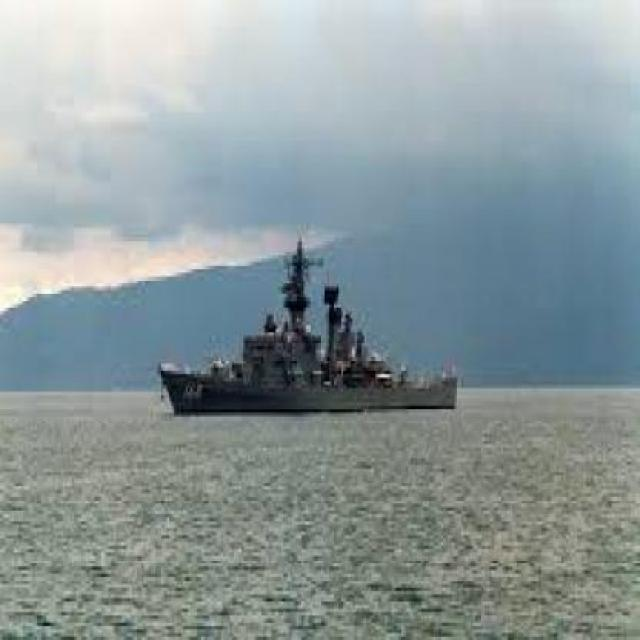warship2: (140, 207, 474, 427)
